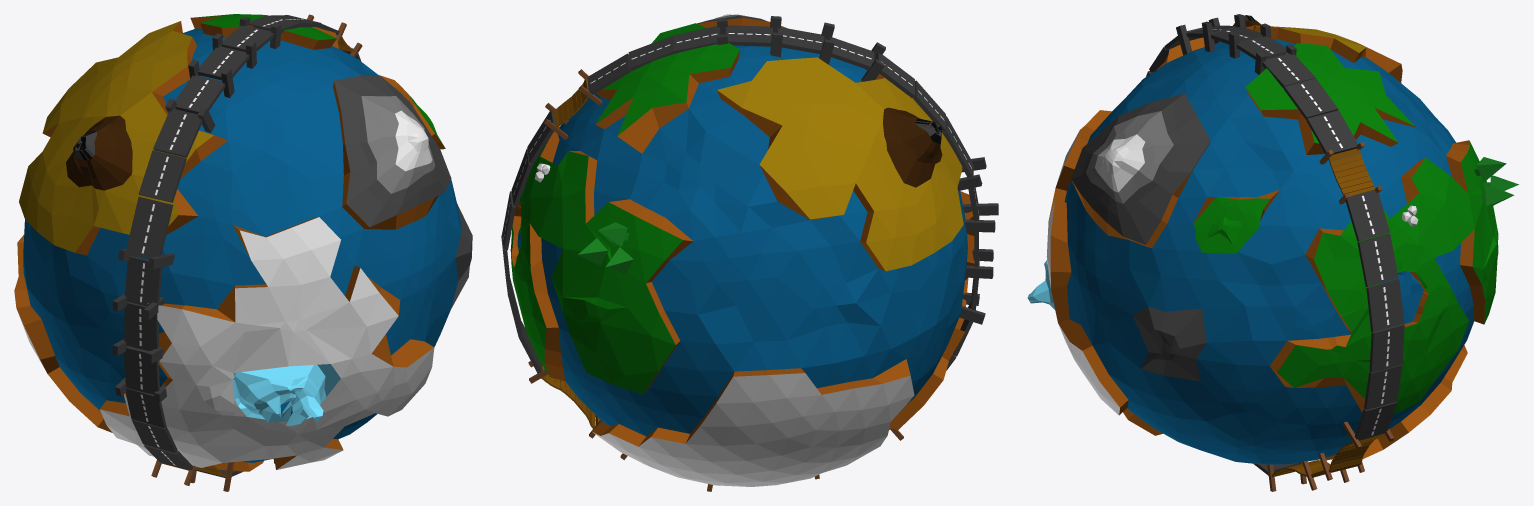
Rendered from Earth.glb.
3 renders of one model, left to right at view 1: azimuth 30°, elevation 25°; view 2: azimuth 150°, elevation 25°; view 3: azimuth 270°, elevation 25°, orthographic. The views are drawn at different scales.
Parts seen in each view (by area): view 1: Icosphere.012, Cube.038, Cube.022, Cube.019, Cube.012, Cube.013, Cube.014, Cube.004, Cube.003, Cube.148, Cube.002, Cube.147 (+2 smaller); view 2: Icosphere.012, Cube.002, Cube.084, Cube.081, Cube.003, Cube.085, Cube.004, Cube.019, Cube.022, Cube.038, Cube.083, Cube.080; view 3: Icosphere.012, Cube.080, Cube.083, Cube.079, Cube.084, Cube.077, Cube.081, Cube.078, Cube.085, Cube.093, Cube.002.
Part boxes in pixels (x1,y1,x2,y2): Icosphere.012: (14, 14, 472, 471); Cube.038: (126, 196, 173, 258); Cube.022: (138, 150, 186, 202); Cube.019: (153, 108, 202, 157); Cube.012: (125, 256, 162, 306); Cube.013: (124, 302, 158, 350); Cube.014: (124, 346, 159, 394); Cube.004: (175, 75, 225, 114); Cube.003: (198, 46, 249, 80); Cube.148: (125, 387, 166, 428); Cube.002: (222, 25, 273, 51); Cube.147: (131, 419, 177, 452); Icosphere.012: (510, 14, 978, 486); Cube.002: (725, 25, 773, 46); Cube.084: (587, 53, 630, 94); Cube.081: (628, 36, 674, 71); Cube.003: (776, 27, 824, 54); Cube.085: (673, 26, 720, 53); Cube.004: (829, 37, 874, 69); Cube.019: (876, 53, 914, 98); Cube.022: (913, 80, 946, 132); Cube.038: (943, 116, 973, 178); Cube.083: (527, 110, 555, 164); Cube.080: (511, 149, 532, 206); Icosphere.012: (1027, 15, 1498, 467); Cube.080: (1357, 233, 1398, 286); Cube.083: (1345, 189, 1389, 241); Cube.079: (1366, 279, 1403, 332); Cube.084: (1306, 110, 1357, 154); Cube.077: (1369, 324, 1404, 372); Cube.081: (1284, 78, 1338, 119); Cube.078: (1364, 364, 1402, 410); Cube.085: (1262, 53, 1315, 88); Cube.093: (1354, 402, 1396, 440); Cube.002: (1236, 36, 1286, 59).
Size of the model in its own units: 25.64 by 27.81 by 28.42.
